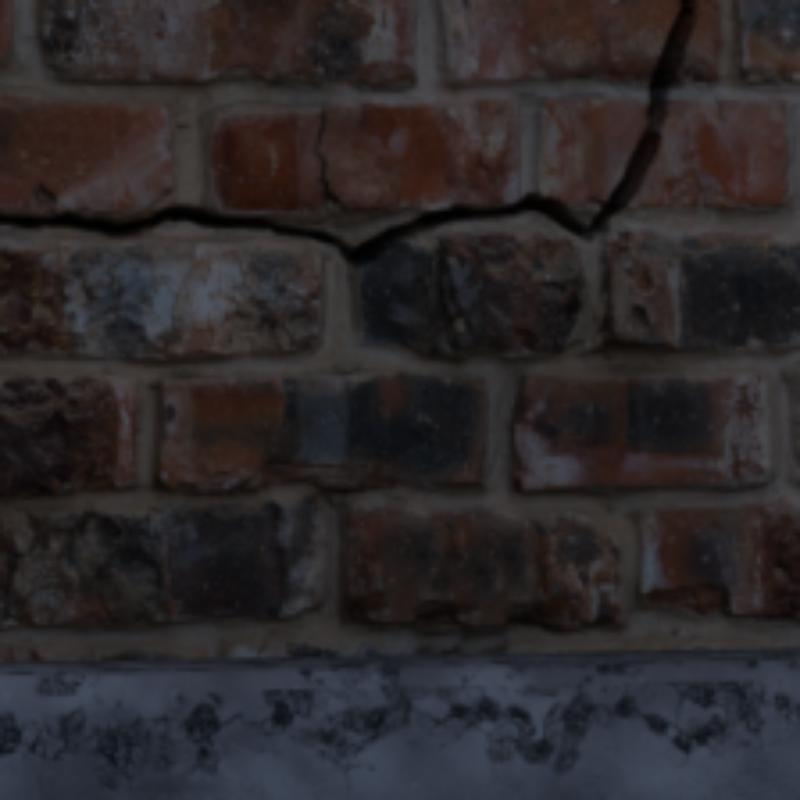pothole: (0, 0, 693, 264), (316, 109, 345, 209)
